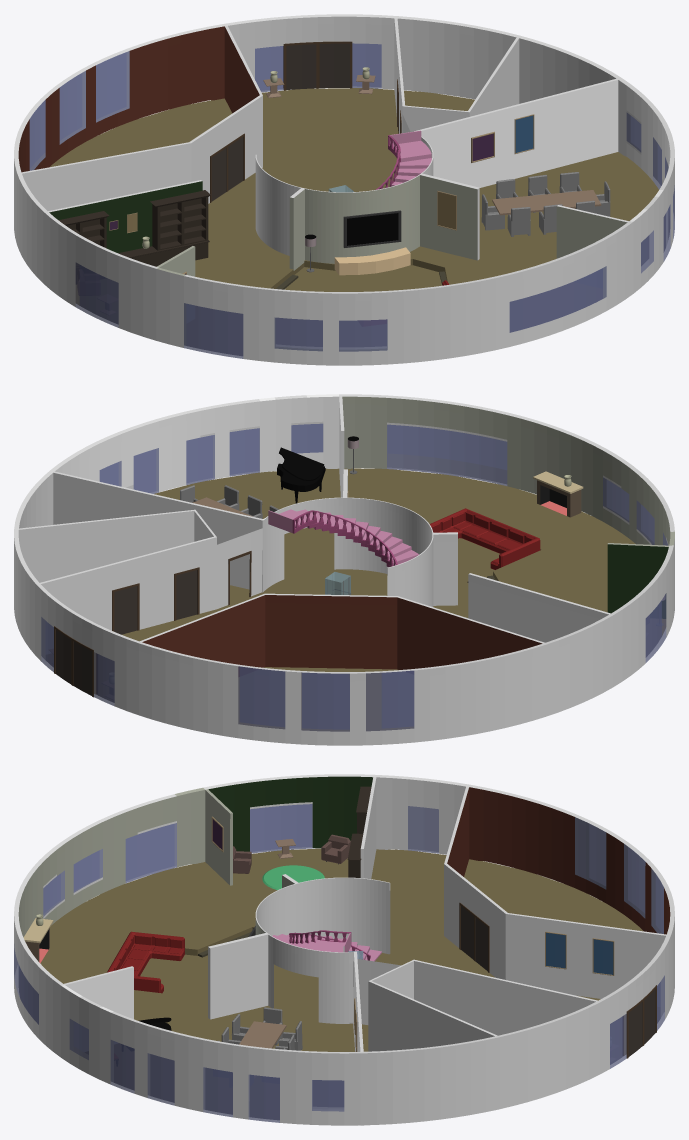
Rendered from golden.egg.f3.fbx.
3 views of the same model, one above another, from view 1: azimuth 30°, elevation 25°; view 2: azimuth 150°, elevation 25°; view 3: azimuth 270°, elevation 25° (orthographic).
Visible parts, largest first — view 1: downstairs, Cube.009, tv, Cube.011, tv furniture, Cube.028, Cube.027, Cube.017, Cube.023, Cube.018; view 2: downstairs, coutch, Cube.020, fire place, elevator; view 3: downstairs, coutch, Cube.009, Circle, Cube.011, Cube.030, fire place, Cube.029, couch.
Boxes of the visible parts, x1,y1,x2,y2 form: downstairs: (14, 14, 674, 365); Cube.009: (58, 190, 210, 284); tv: (343, 210, 401, 247); Cube.011: (492, 190, 601, 215); tv furniture: (334, 247, 410, 275); Cube.028: (514, 114, 534, 153); Cube.027: (437, 191, 456, 230); Cube.017: (507, 207, 530, 236); Cube.023: (471, 131, 494, 162); Cube.018: (481, 194, 504, 230); downstairs: (14, 394, 674, 745); coutch: (429, 508, 540, 569); Cube.020: (277, 447, 325, 503); fire place: (533, 471, 583, 517); elevator: (325, 572, 351, 595); downstairs: (14, 774, 674, 1125); coutch: (107, 931, 184, 993); Cube.009: (347, 786, 371, 877); Circle: (262, 865, 324, 890); Cube.011: (239, 1021, 286, 1048); Cube.030: (592, 938, 614, 975); fire place: (23, 918, 53, 963); Cube.029: (545, 931, 566, 969); couch: (321, 834, 350, 864).
Bounding box in the file's own units: 4784 × 671 × 4784.
